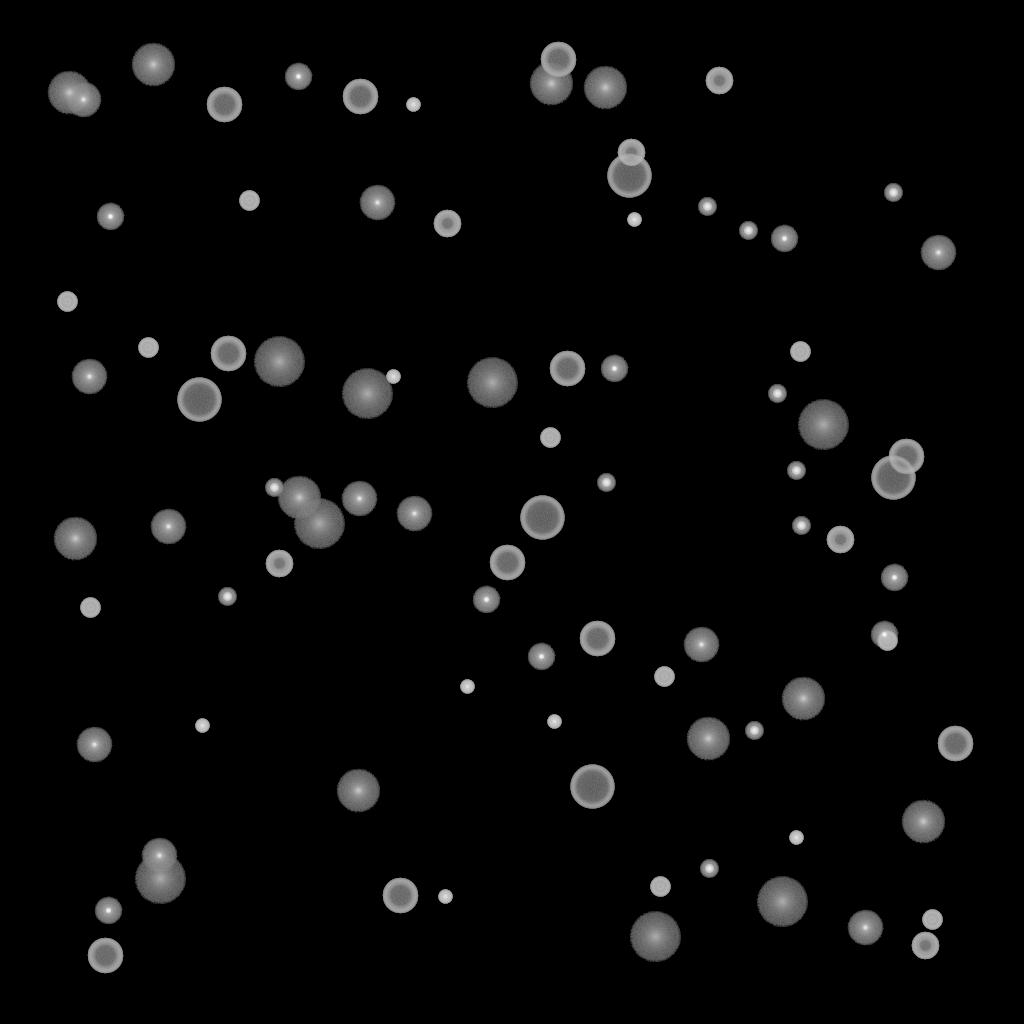depth:-10: (284, 63, 312, 91), (600, 355, 628, 383), (880, 564, 908, 592), (94, 897, 122, 925), (96, 203, 124, 231), (770, 225, 798, 253), (870, 621, 898, 649), (472, 586, 500, 614), (527, 643, 555, 671)
depth:-20: (597, 474, 615, 492), (884, 184, 902, 202), (700, 860, 718, 878), (792, 517, 810, 535), (787, 462, 805, 480), (768, 385, 786, 403), (218, 588, 236, 606), (265, 479, 283, 497), (739, 222, 757, 240), (698, 198, 716, 216), (745, 722, 763, 740)
depth:-30: (547, 715, 561, 729), (406, 98, 420, 112), (627, 213, 641, 227), (195, 719, 209, 733), (386, 370, 400, 384), (438, 890, 452, 904), (460, 680, 474, 694), (789, 831, 803, 845)
depth:-40: (877, 631, 897, 651), (922, 910, 942, 930), (654, 667, 674, 687), (80, 598, 100, 618), (790, 342, 810, 362), (540, 428, 560, 448), (57, 292, 77, 312), (138, 338, 158, 358), (650, 877, 670, 897), (239, 191, 259, 211)
depth:-50: (826, 526, 854, 554), (911, 932, 939, 960), (617, 139, 645, 167), (265, 550, 293, 578), (705, 67, 733, 95), (433, 210, 461, 238)
depth:-60: (489, 545, 525, 581), (540, 42, 576, 78), (206, 87, 242, 123), (210, 336, 246, 372), (342, 79, 378, 115), (937, 726, 973, 762), (382, 878, 418, 914), (579, 621, 615, 657), (87, 938, 123, 974), (888, 439, 924, 475), (549, 351, 585, 387)
depth:-70: (177, 378, 221, 422), (607, 154, 651, 198), (520, 496, 564, 540), (871, 456, 915, 500), (570, 765, 614, 809)
depth:0: (396, 496, 432, 532), (76, 727, 112, 763), (141, 838, 177, 874), (71, 359, 107, 395), (150, 509, 186, 545), (683, 627, 719, 663), (920, 235, 956, 271), (847, 910, 883, 946), (341, 481, 377, 517), (359, 185, 395, 221), (65, 82, 101, 118)
depth:10: (686, 717, 730, 761), (47, 71, 91, 115), (336, 769, 380, 813), (583, 66, 627, 110), (131, 43, 175, 87), (53, 517, 97, 561), (901, 800, 945, 844), (277, 476, 321, 520), (529, 62, 573, 106), (781, 677, 825, 721)
depth:20: (341, 369, 393, 419), (293, 499, 345, 549), (253, 337, 305, 387), (797, 400, 849, 450), (629, 912, 681, 962), (756, 877, 808, 927), (466, 358, 518, 408), (134, 854, 186, 904)
